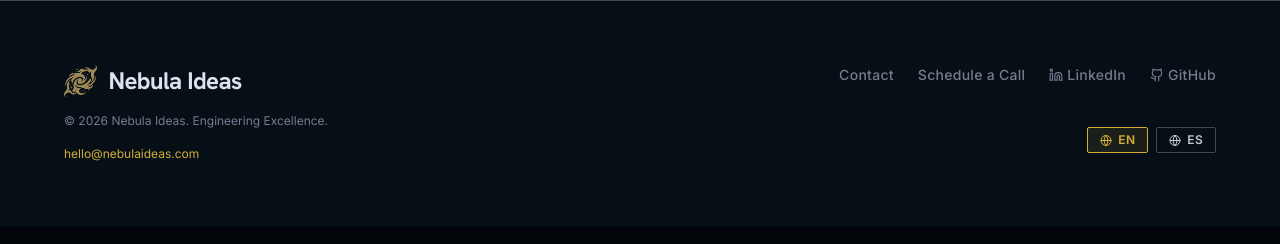
Footer component › should toggle language to Spanish and English when clicking buttons
The image size is (1280, 244).
# Switch to Spanish
Click the button "ES" at (1186, 140), box [1156,127,1216,153]
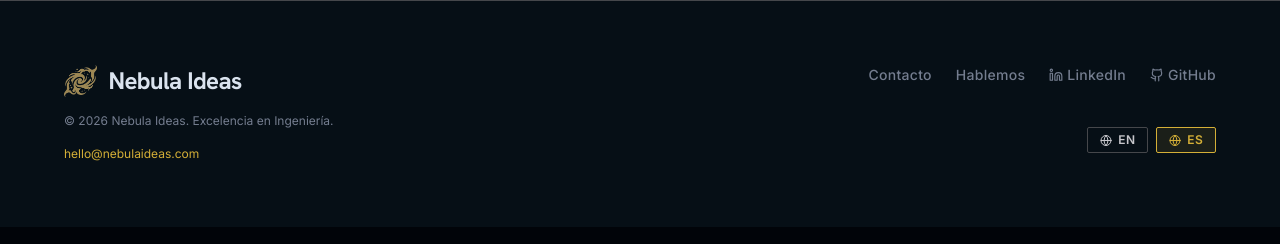
Expected: the text "© 2026 Nebula Ideas. Excelencia en Ingeniería." is shown, [64,113,334,128]
# Switch back to English
Click the button "EN" at (1118, 140), box [1087,127,1148,153]
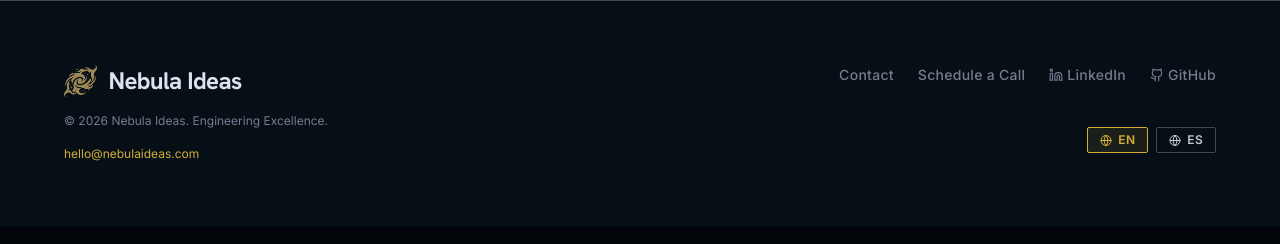
Expected: the text "© 2026 Nebula Ideas. Engineering Excellence." is shown, [64,113,328,128]
